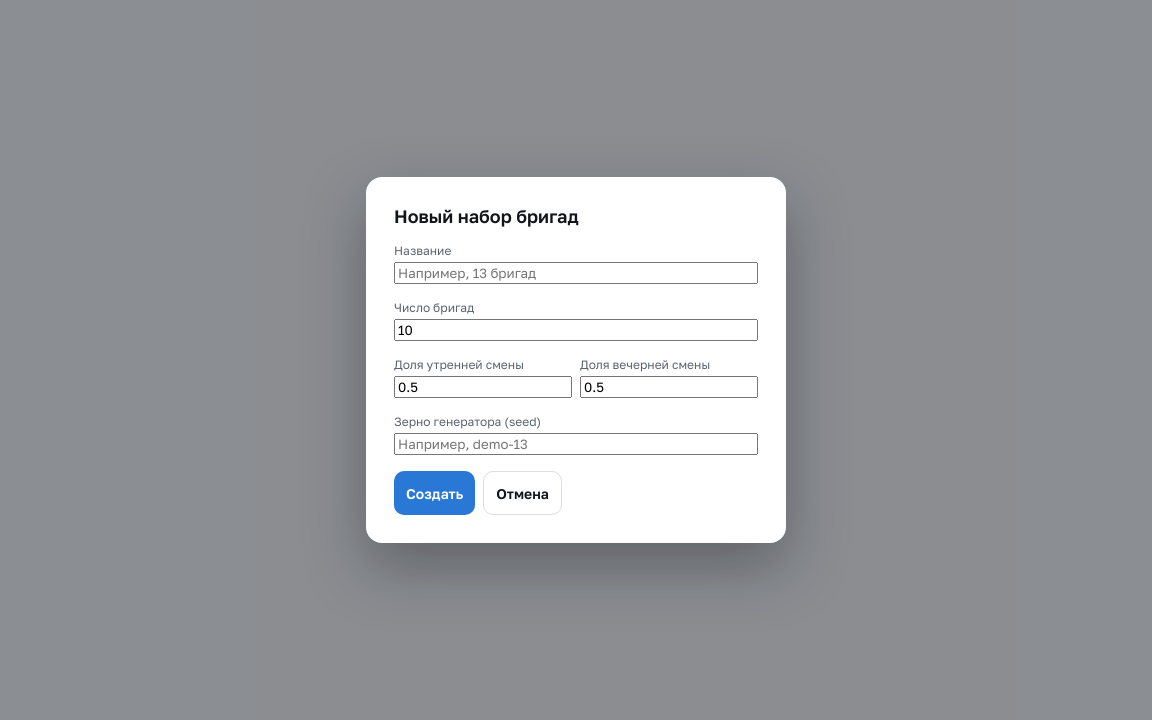
Test case: EngineerSetCreateForm › shows the dictionary message on a duplicate name (409)
Step 1. Type "13 бригад" into the field labelled "Название" → (576, 273), box [394, 262, 758, 284]
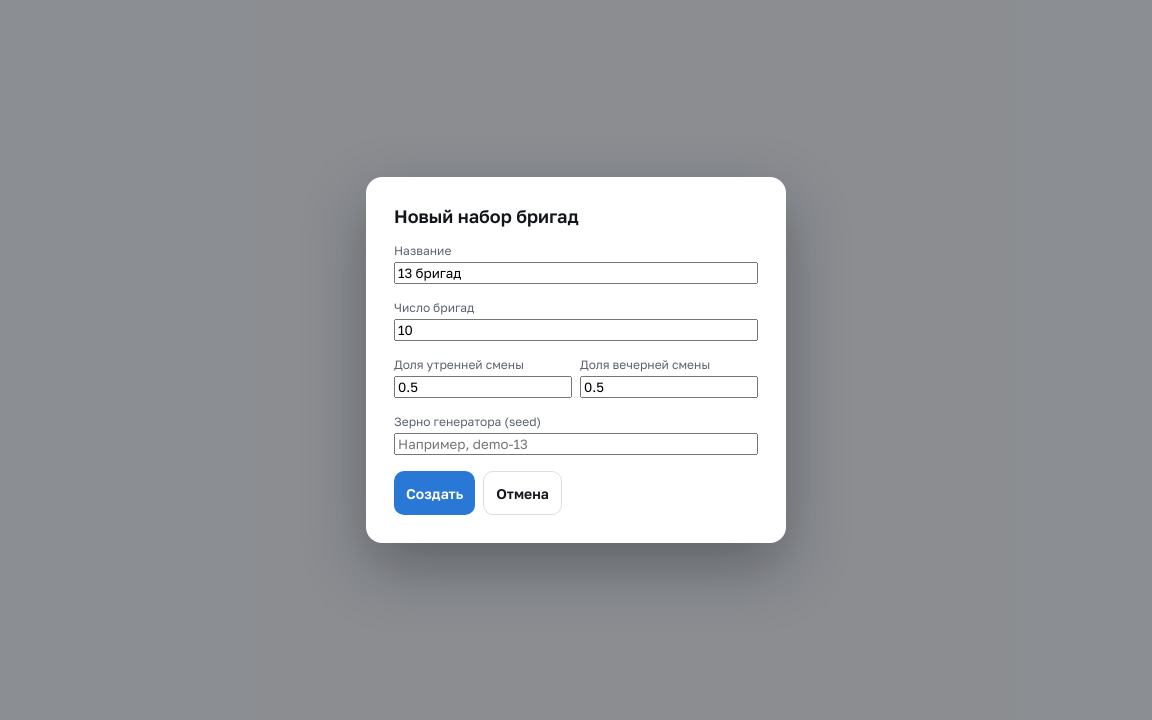
Step 2. Replace the text in the number field labelled "Число бригад" with "13" → (576, 330), box [394, 319, 758, 341]
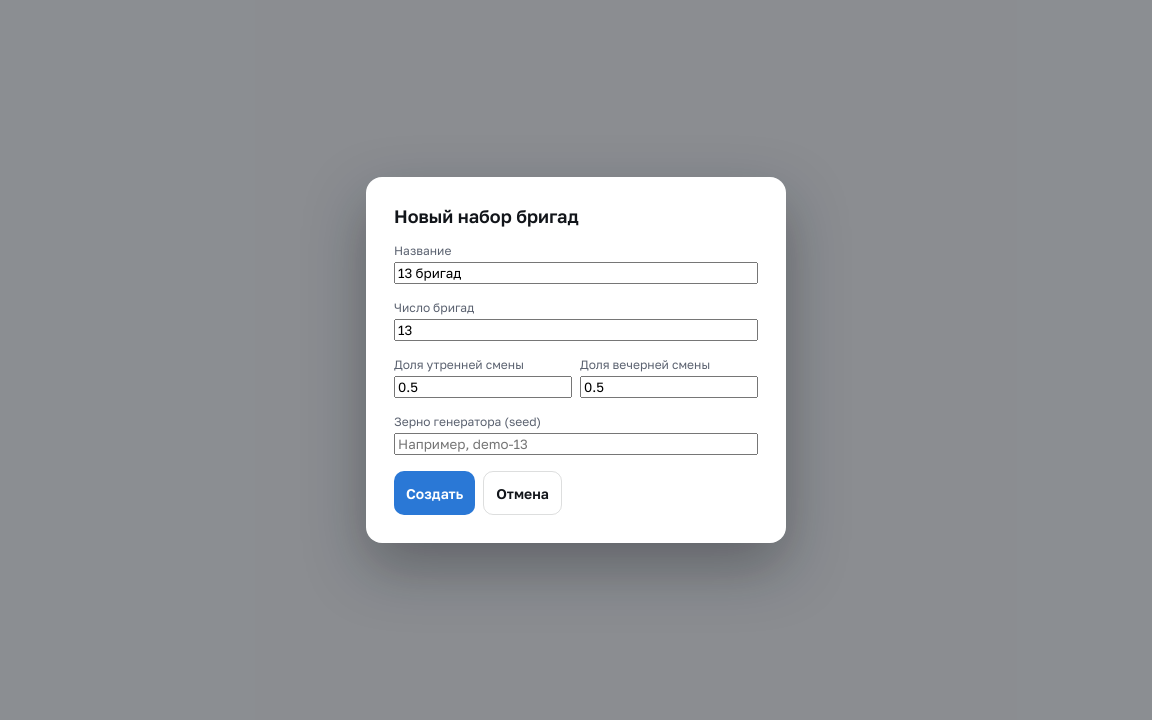
Step 3. Replace the text in the number field labelled "Доля утренней смены" with "0.6" → (483, 387), box [394, 376, 572, 398]
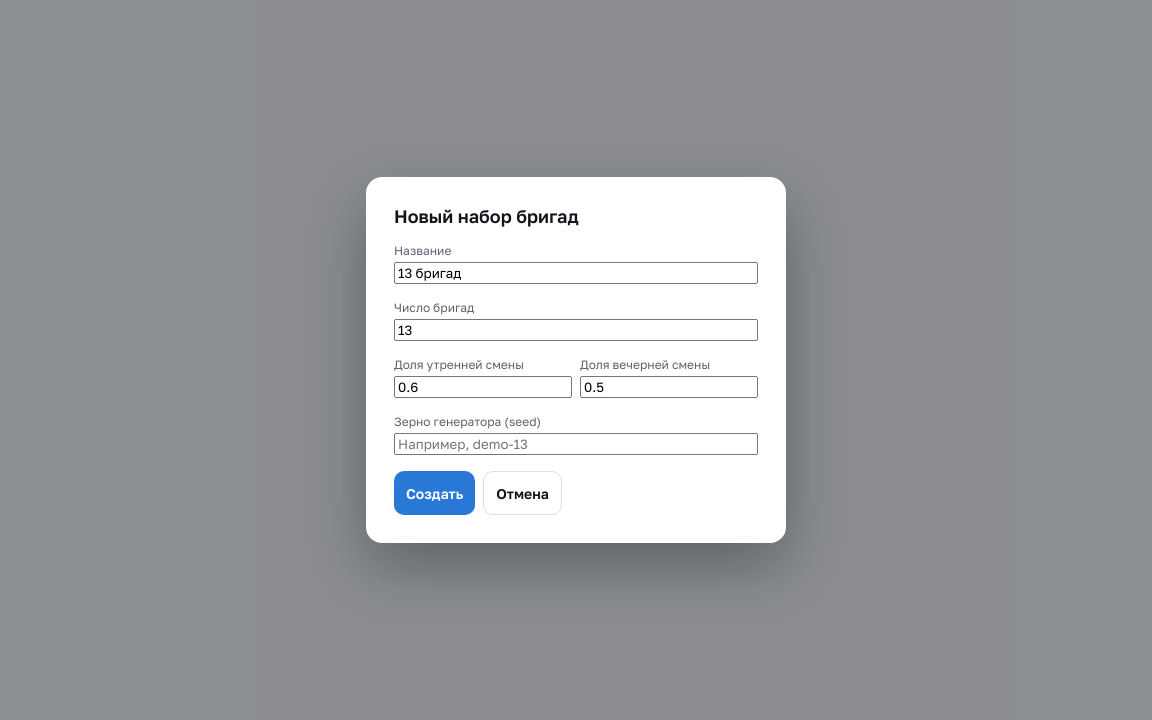
Step 4. Replace the text in the number field labelled "Доля вечерней смены" with "0.4" → (669, 387), box [580, 376, 758, 398]
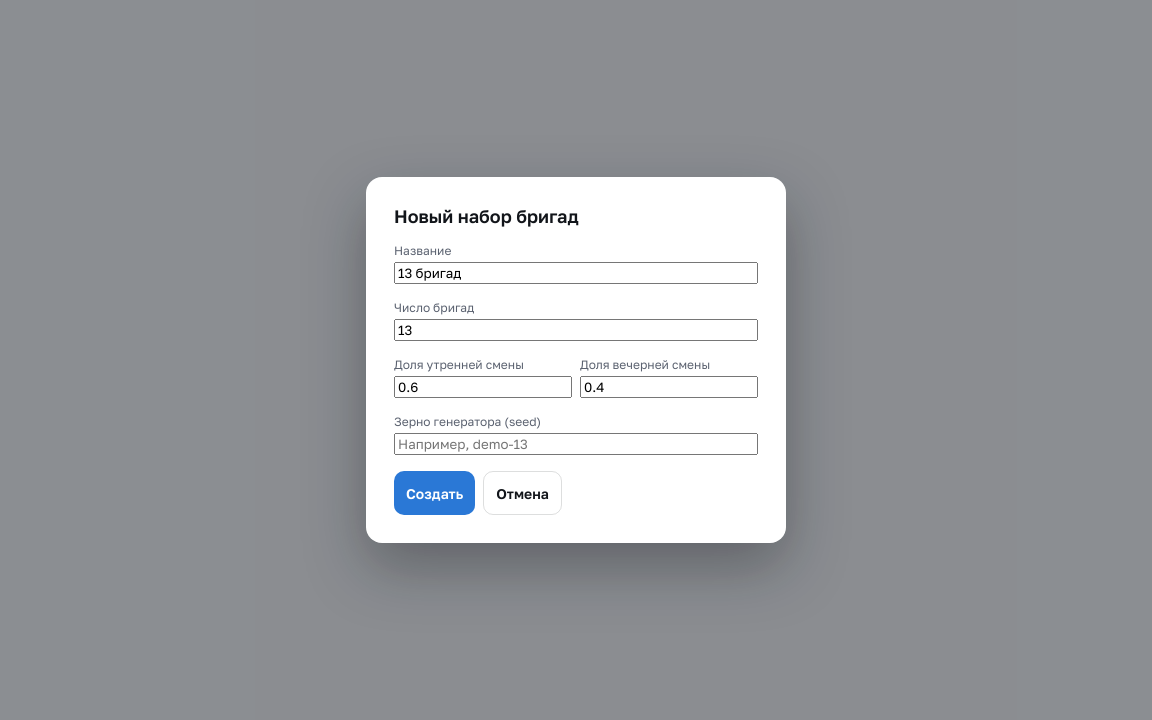
Step 5. Type "demo-13" into the field labelled "Зерно генератора (seed)" → (576, 444), box [394, 433, 758, 455]
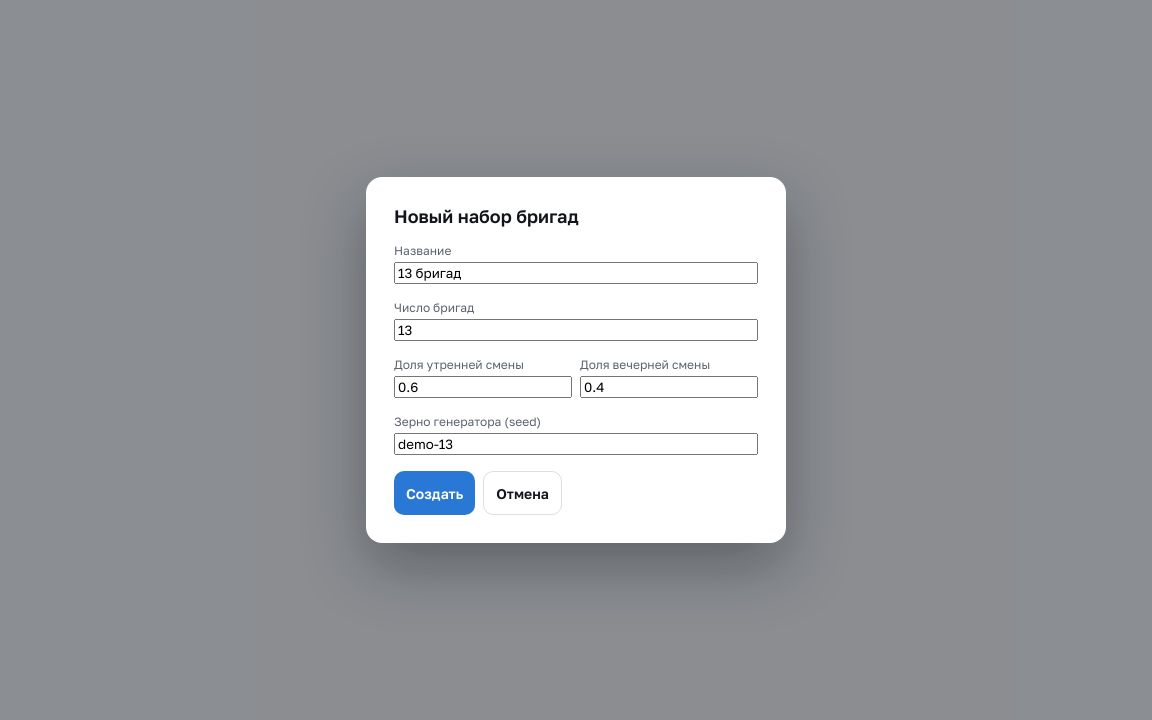
Step 6. Click the button "Создать" → (435, 493), box [394, 471, 475, 515]
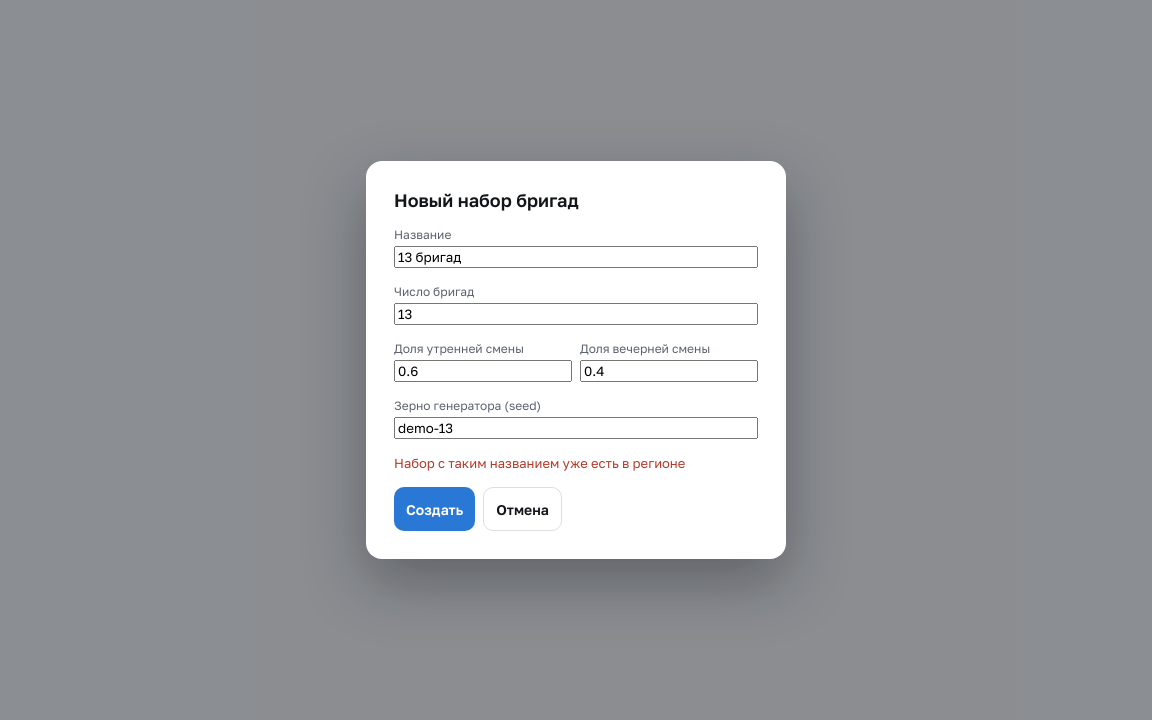
Expected: the text "Набор с таким названием уже есть в регионе" is shown, [394, 455, 685, 471]
